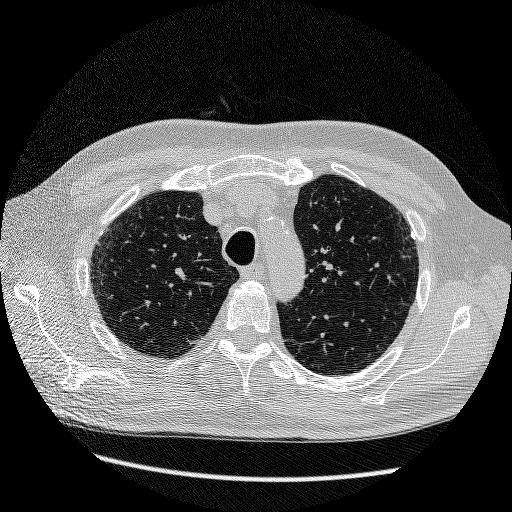nodule: (408, 230, 419, 241)
